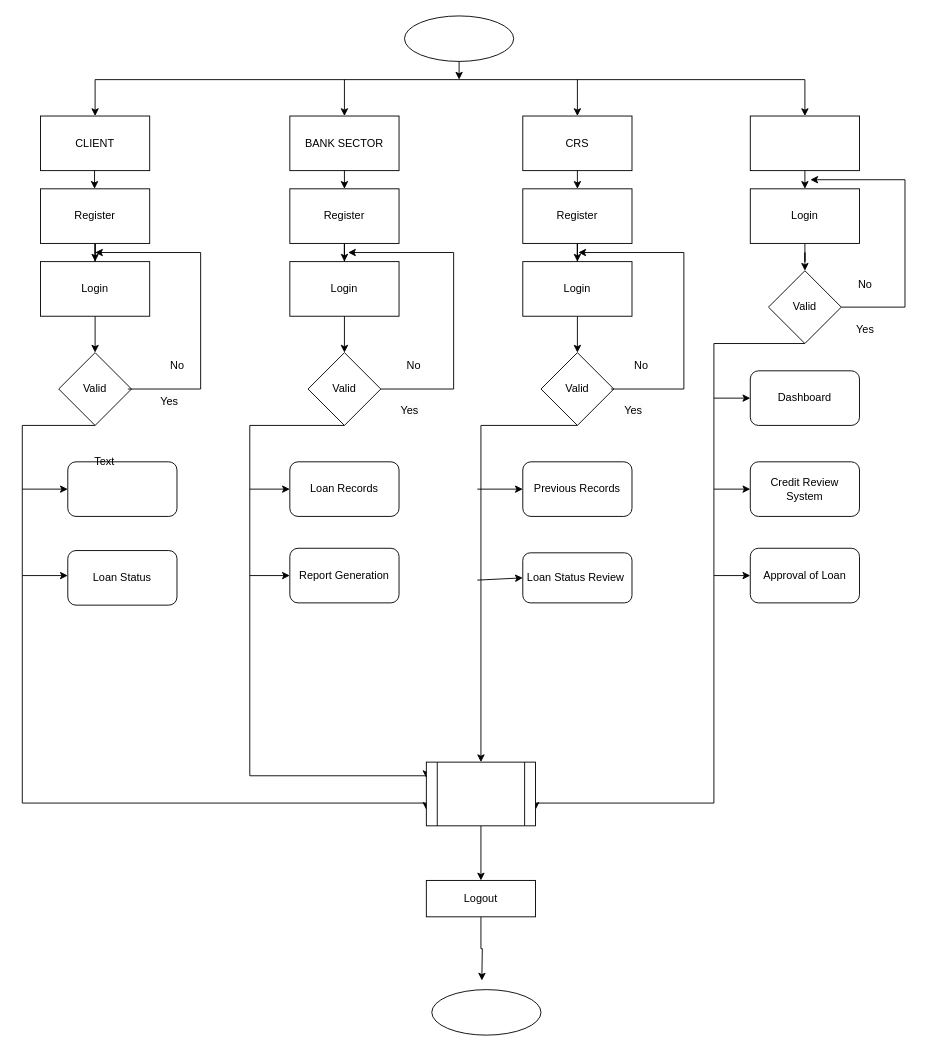
Image size: 928x1058. Some labels were removed from this diagram. The box of each missing label's shape, as (x1, y1, x2, y2) in pixels:
ADMIN: (749, 115, 859, 171)
Database: (425, 761, 536, 826)
end: (431, 989, 541, 1035)
Loan Request: (67, 461, 177, 516)
Start: (404, 15, 514, 61)
